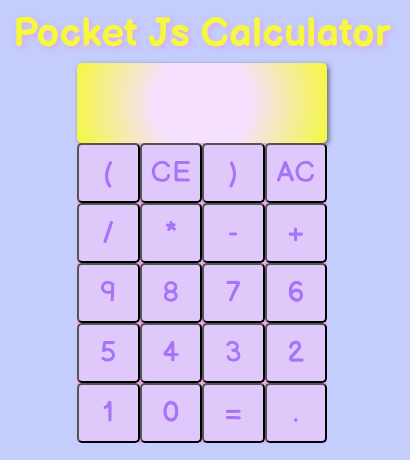
Test case: check the operation of 2 numbers › division of 9 by 2 must result in 4.5
Click the button with test id "9". click: {"x": 108, "y": 292}
box: [77,262,140,322]
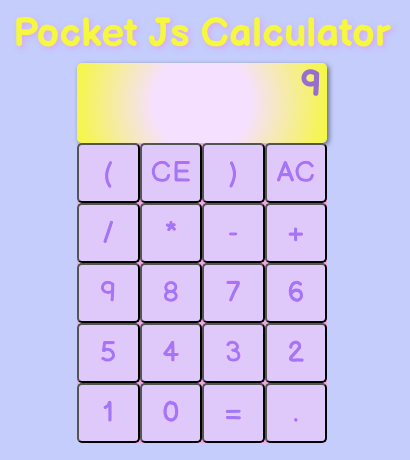
Click the button with test id "/". click: {"x": 108, "y": 232}
box: [77,202,140,262]
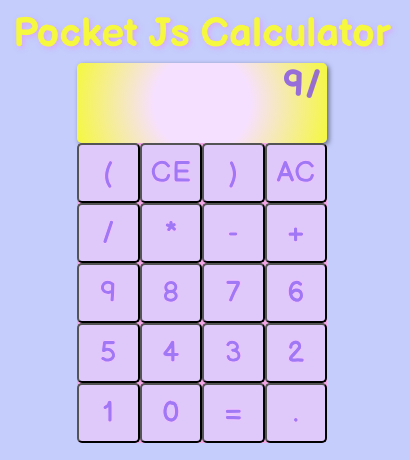
Click the button with test id "2". click: {"x": 296, "y": 352}
box: [264,322,327,382]
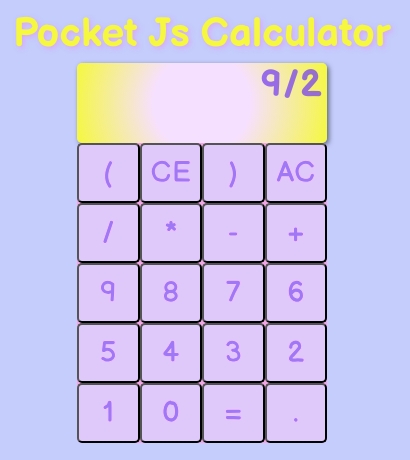
Click the button with test id "=". click: {"x": 233, "y": 412}
box: [202,382,264,442]
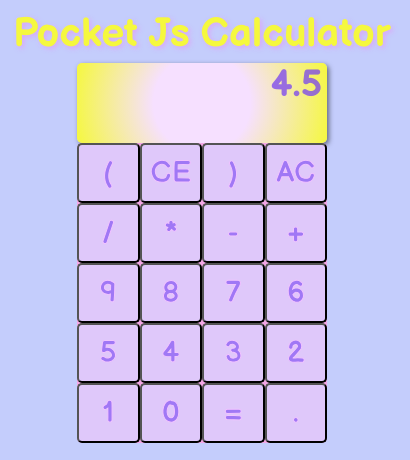
Now the element with test id "result" reads "4.5", box [271,62,322,106]
